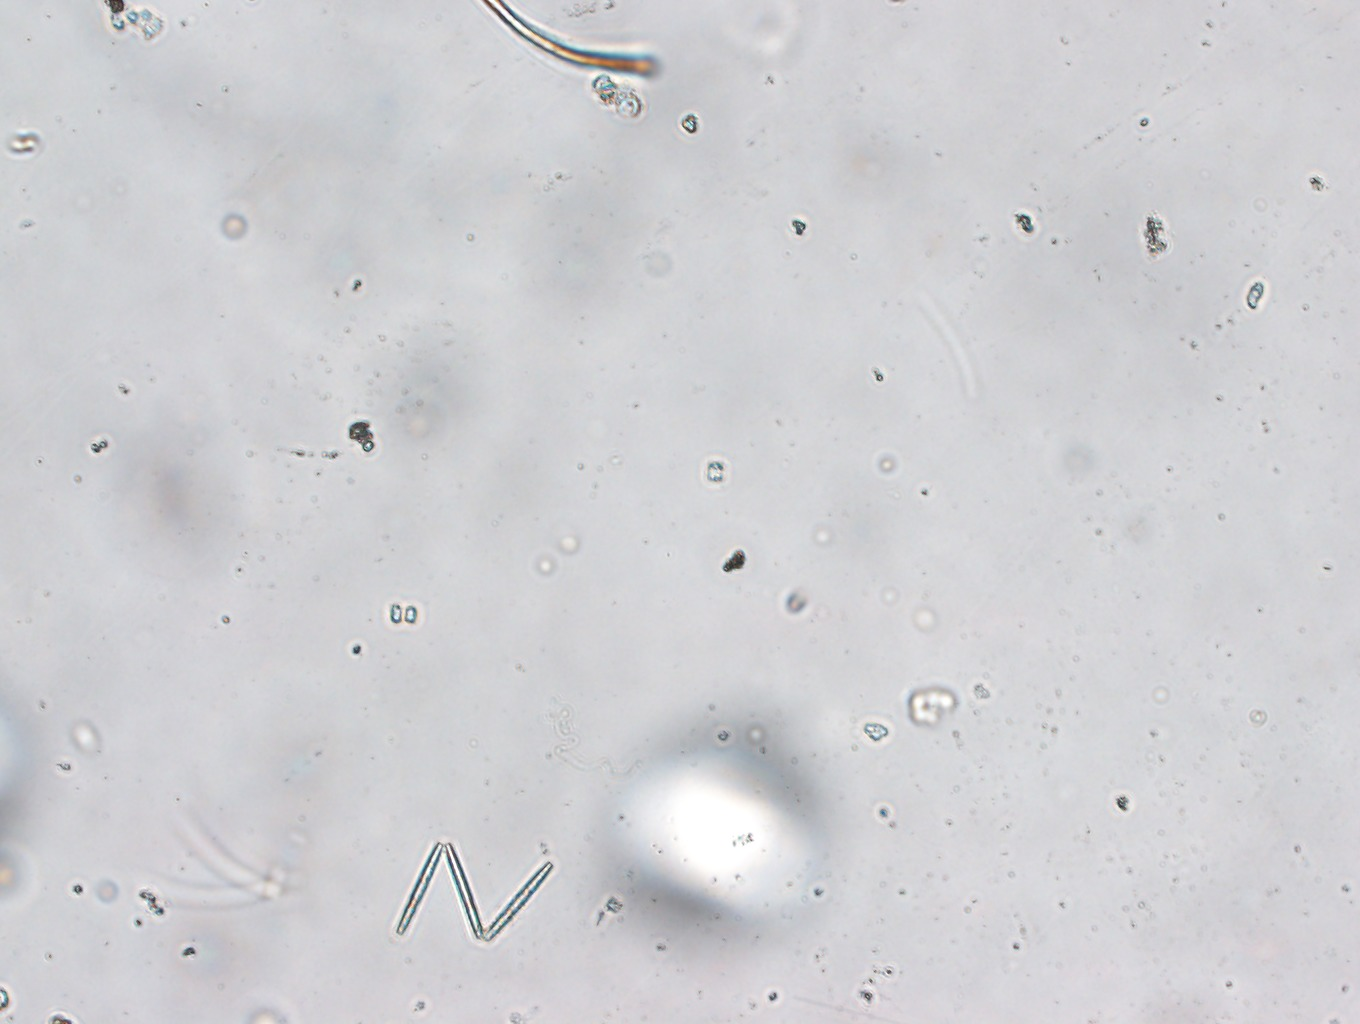thalassionema nitzschioides: (392, 834, 560, 966)
